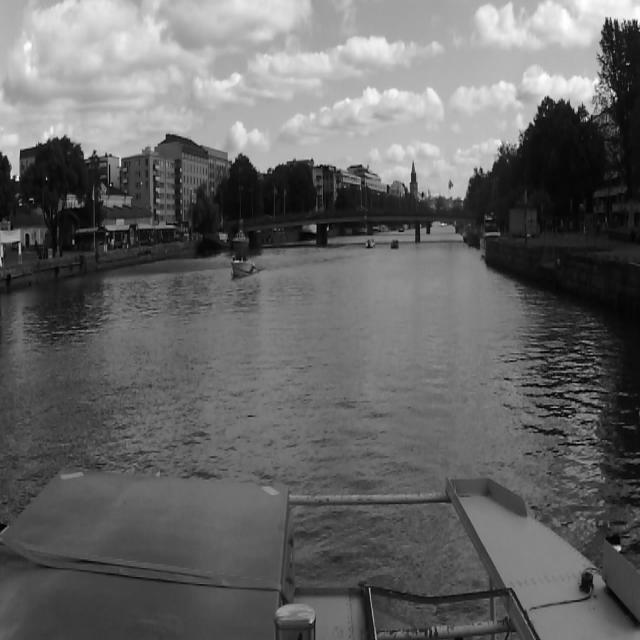ship: (232, 217, 250, 253), (231, 255, 255, 277), (366, 239, 378, 252), (390, 238, 400, 251)
